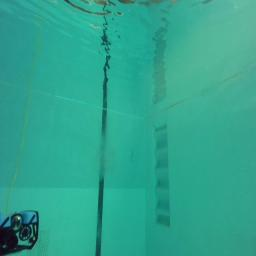front: (0, 210, 39, 256)
